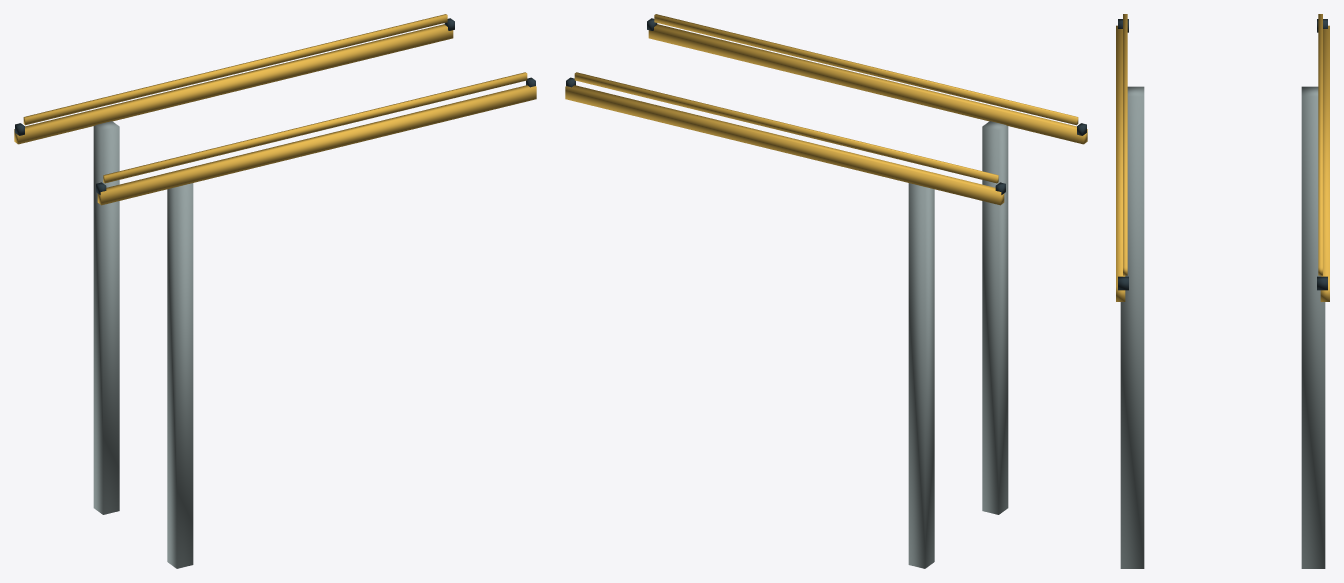
File: door_belt_frame.dae
3 renders of one model, left to right at view 1: azimuth 30°, elevation 25°; view 2: azimuth 150°, elevation 25°; view 3: azimuth 270°, elevation 25°, orthographic. The views are drawn at different scales.
Visible parts, largest first — view 1: ground_leg-1, ground_leg1, frame-1, frame1, guide-1, guide1; view 2: ground_leg1, ground_leg-1, frame1, frame-1, guide-1, guide1; view 3: ground_leg-1, ground_leg1, frame-1, frame1, guide-1, guide1.
Part boxes in pixels (x1,y1,x2,y2): ground_leg-1: (167,183,193,568); ground_leg1: (93,121,119,514); frame-1: (97,85,536,205); frame1: (14,24,453,144); guide-1: (103,72,527,183); guide1: (23,14,447,125); ground_leg1: (908,183,934,568); ground_leg-1: (982,121,1008,514); frame1: (565,85,1004,205); frame-1: (648,24,1087,144); guide-1: (654,14,1078,125); guide1: (574,72,998,183); ground_leg-1: (1120,86,1144,568); ground_leg1: (1301,86,1325,568); frame-1: (1116,25,1125,301); frame1: (1320,25,1329,301); guide-1: (1123,14,1127,275); guide1: (1318,14,1322,275).
Bounding box in the file's own units: 1.98 × 0.685 × 1.78.
